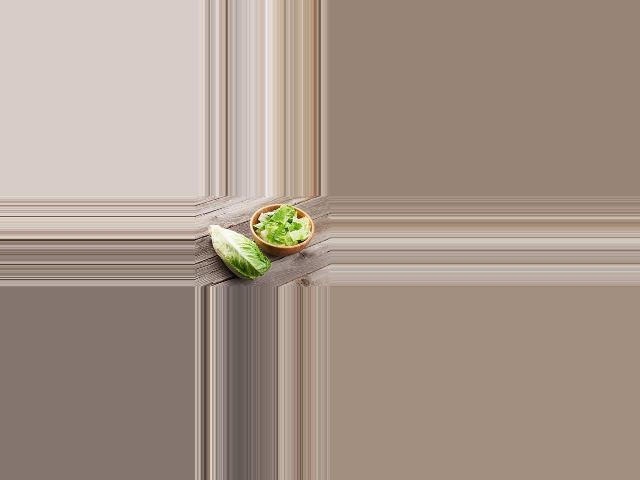lettuce: (210, 224, 270, 281)
